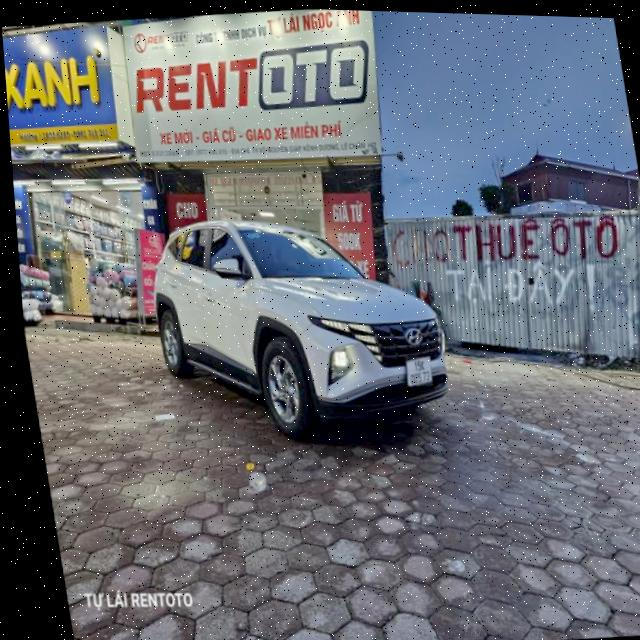car: (125, 196, 471, 464)
plate: (397, 350, 440, 391)
